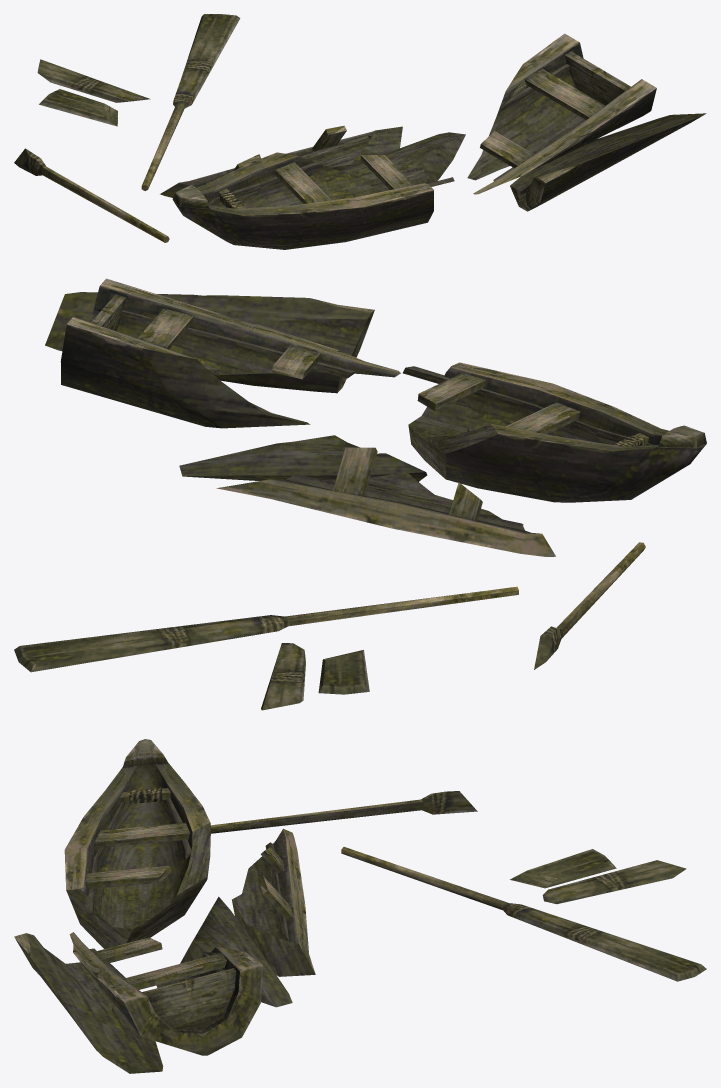
File: 7001_Item_chuan_4.FBX
3 views of the same model, one above another, from view 1: azimuth 30°, elevation 25°; view 2: azimuth 150°, elevation 25°; view 3: azimuth 270°, elevation 25° (orthographic). The views are drawn at different scales.
Parts seen in each view (by area): view 1: 7001_Item_chuan_4; view 2: 7001_Item_chuan_4; view 3: 7001_Item_chuan_4.
Boxes of the visible parts, <box> form: 7001_Item_chuan_4: <box>14,14,706,249</box>; 7001_Item_chuan_4: <box>14,278,706,710</box>; 7001_Item_chuan_4: <box>14,739,706,1073</box>.
Bounding box in the file's own units: 71539 × 11718 × 71343.
